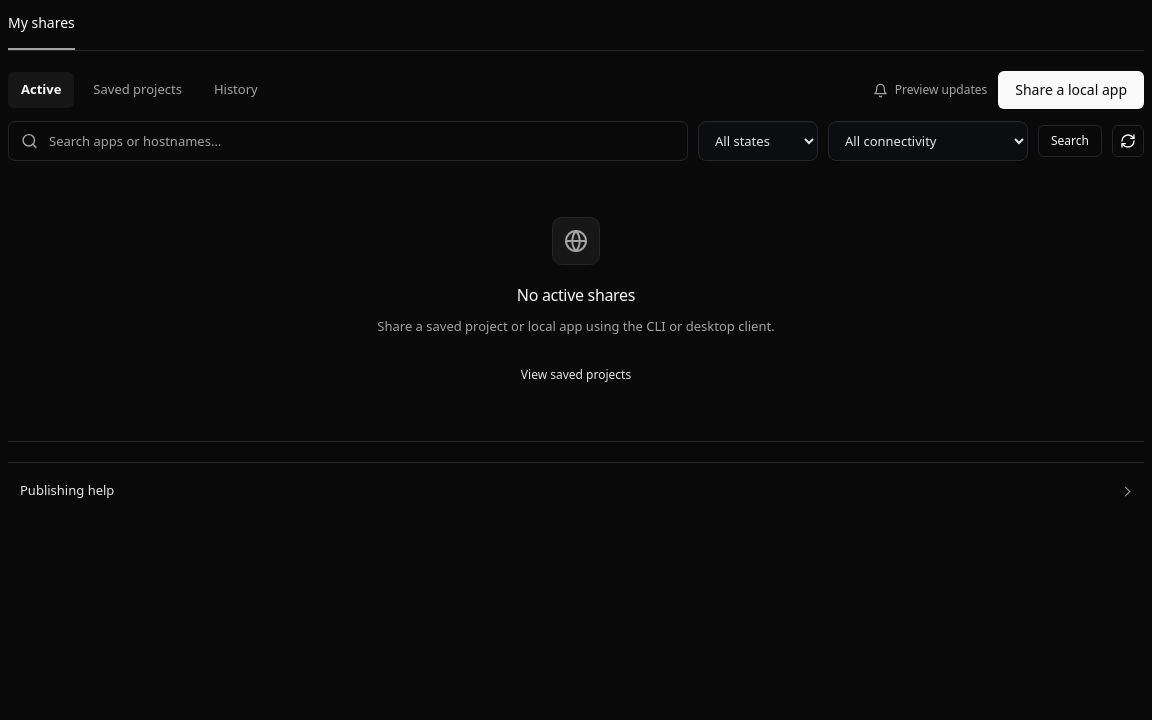
Test case: Beam reviewer inventory › keeps ended shares in the publisher's own history
Check: the heading "No active shares" is shown, box [517,284,635,306]
Check: the text "Stopped" is not shown
Click the button "History" at (236, 90), box [201,72,271,108]
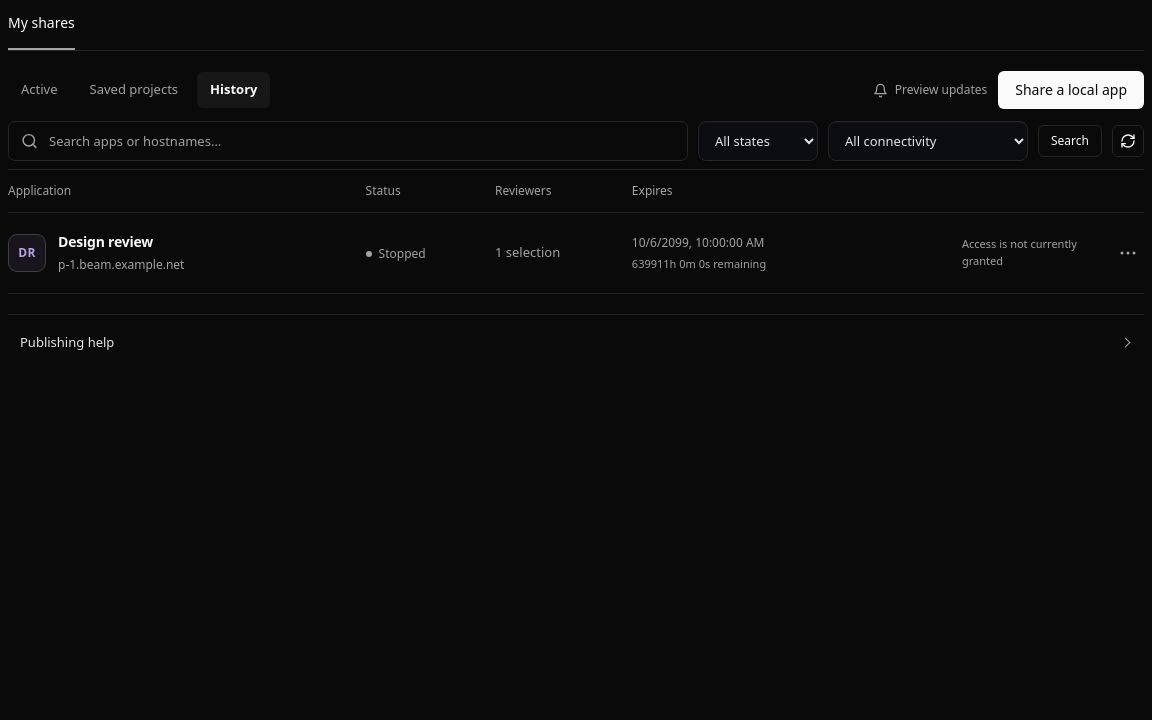
Check: the link "View Design review" is shown, box [58,232,153,251]
